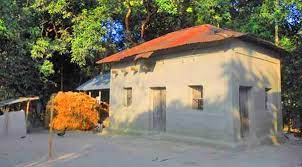Mud House: (98, 25, 291, 156)
